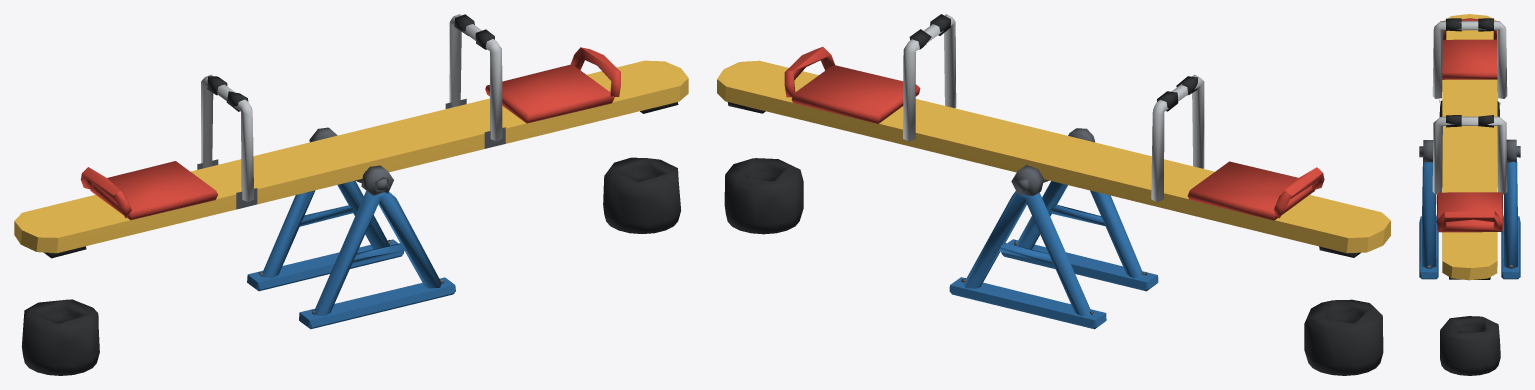
Rendered from seesaw.far.glb.
3 views of the same model, side by side, from view 1: azimuth 30°, elevation 25°; view 2: azimuth 150°, elevation 25°; view 3: azimuth 270°, elevation 25° (orthographic). The views are drawn at different scales.
Parts seen in each view (by area): view 1: seesaw_far; view 2: seesaw_far; view 3: seesaw_far.
Part boxes in pixels (x1,y1,x2,y2): seesaw_far: [14, 14, 688, 375]; seesaw_far: [717, 14, 1390, 375]; seesaw_far: [1419, 14, 1520, 375].
Bounding box in the file's own units: 2.5 × 0.8445 × 0.42.
